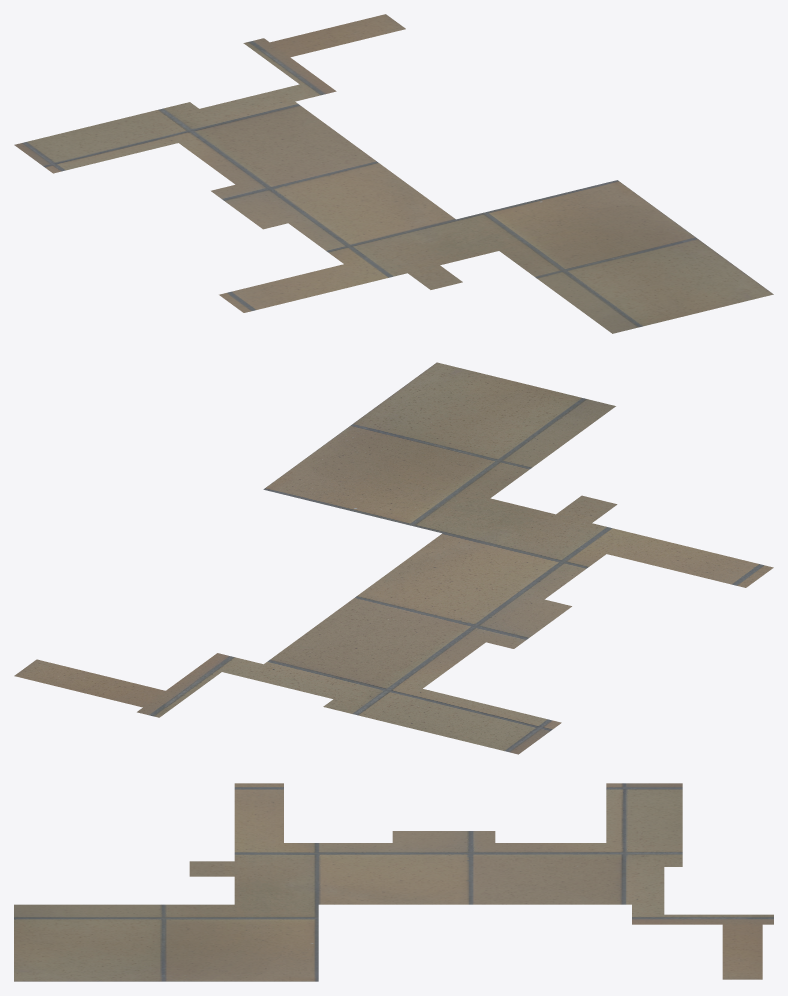
File: Lattia_Alakerta.fbx
3 renders of one model, top to bottom at view 1: azimuth 30°, elevation 25°; view 2: azimuth 150°, elevation 25°; view 3: azimuth 270°, elevation 25°, orthographic. The views are drawn at different scales.
Visible parts, largest first — view 1: 1krs_lattia; view 2: 1krs_lattia; view 3: 1krs_lattia.
Part boxes in pixels (x1,y1,x2,y2): 1krs_lattia: [14, 14, 773, 333]; 1krs_lattia: [14, 362, 773, 754]; 1krs_lattia: [14, 783, 773, 981].
Size of the model in its own units: 4136 by 0.00109 by 6708.
